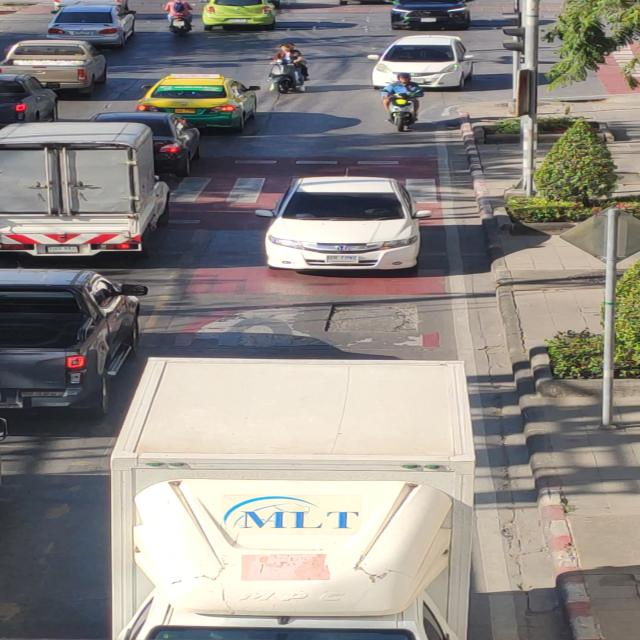car: (250, 175, 442, 290)
